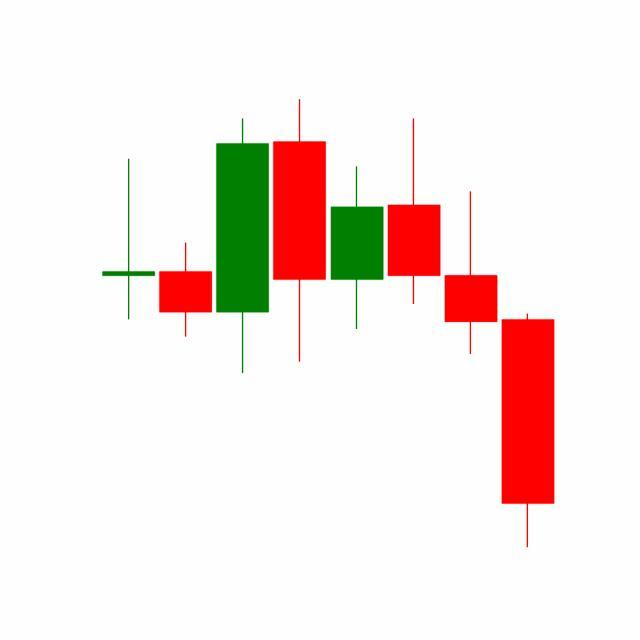Hikkake Pattern: (270, 99, 555, 549)
